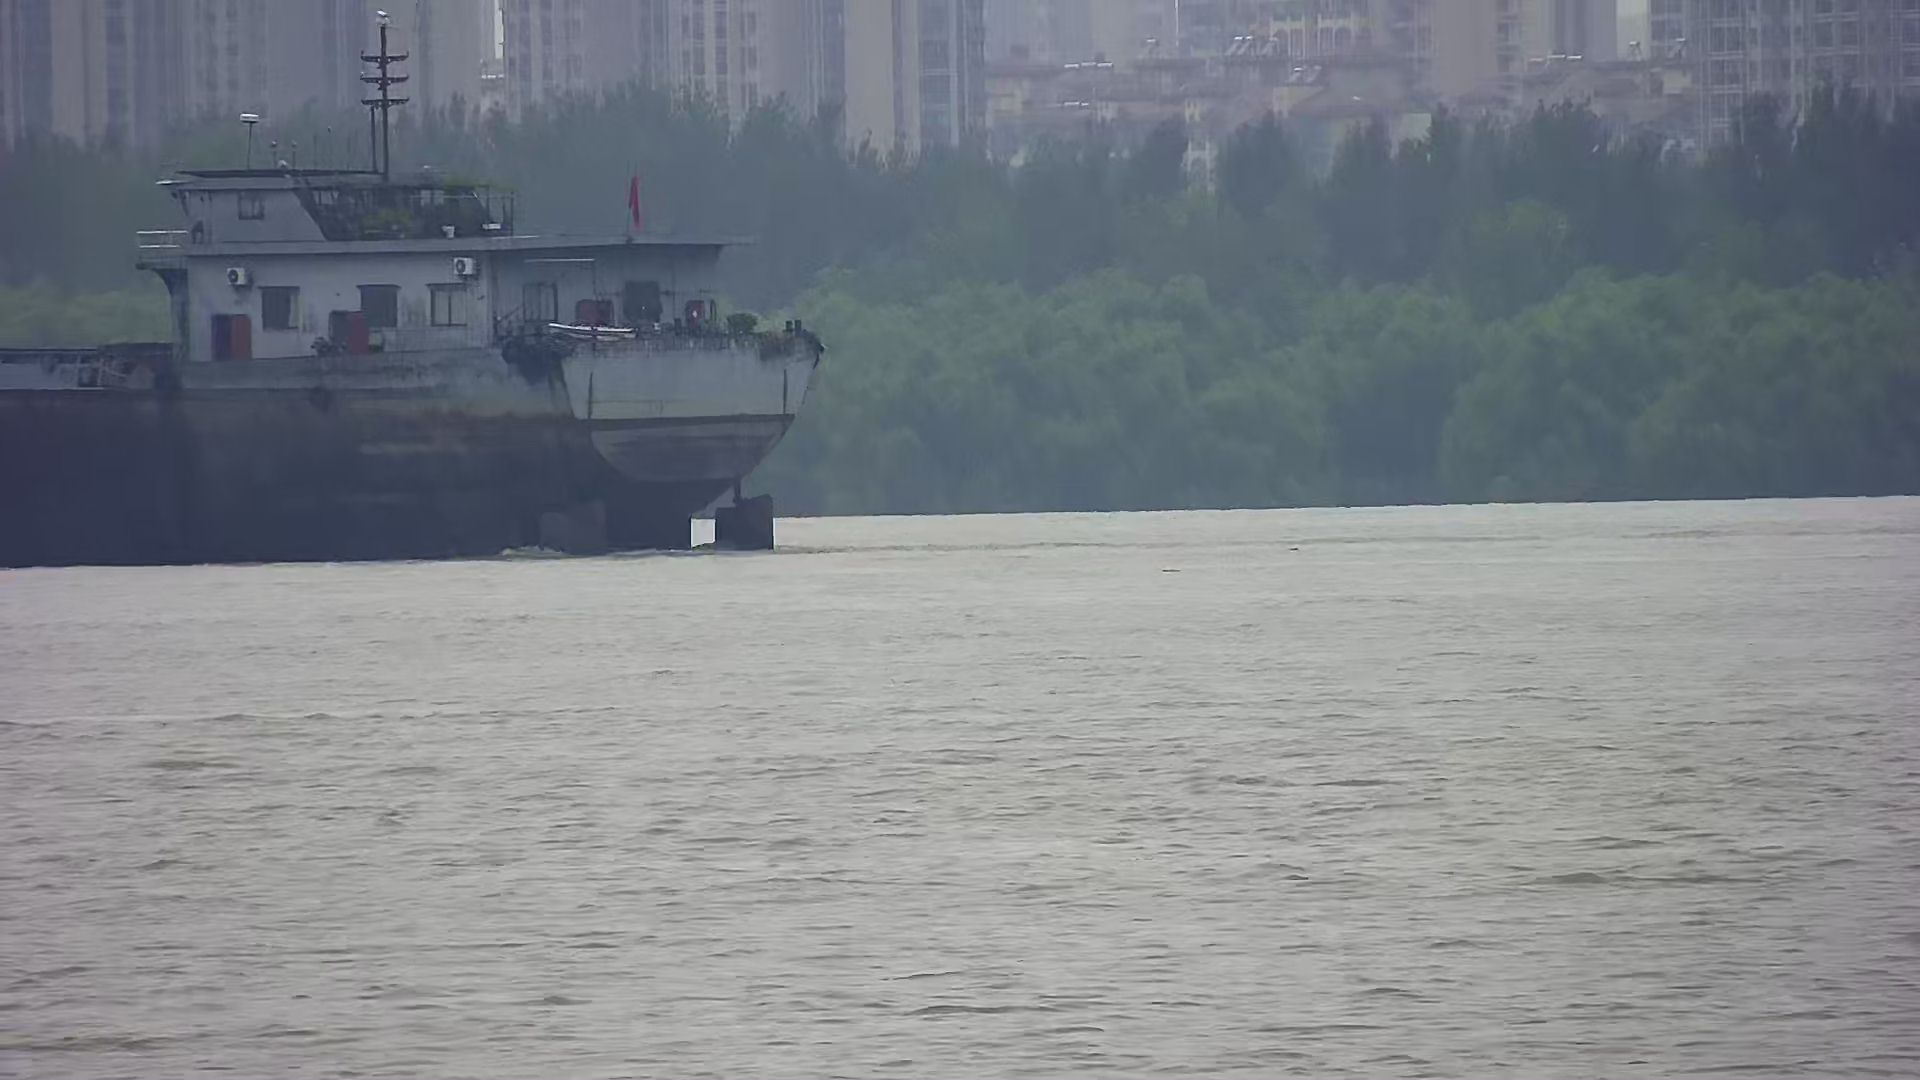ship: (1, 142, 815, 567)
